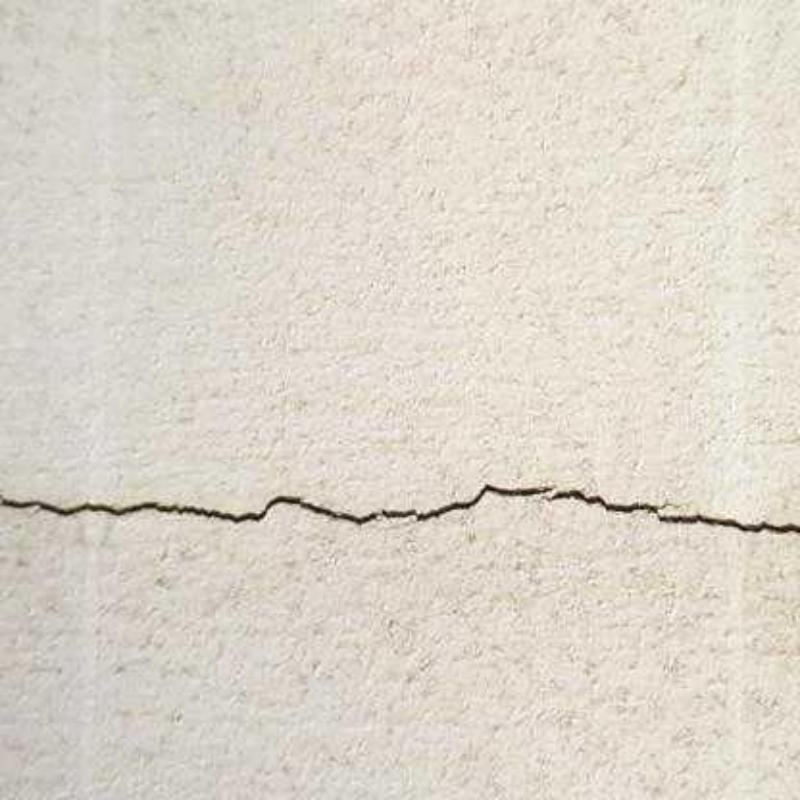pothole: (0, 484, 800, 535)
